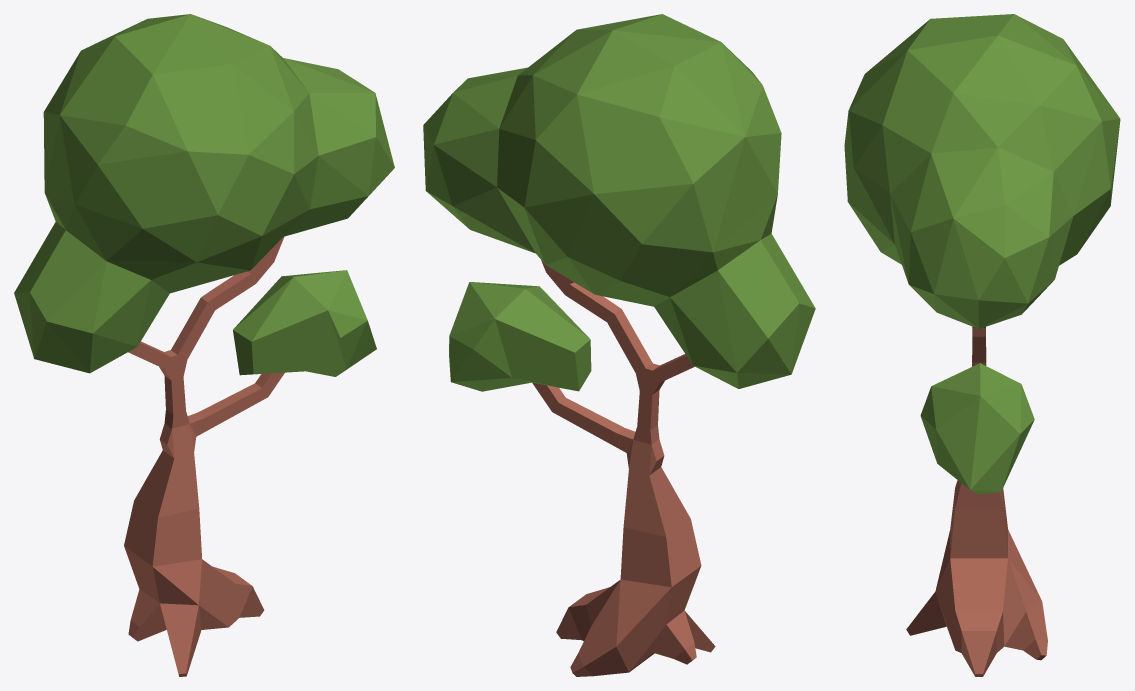
File: tree_14.fbx
3 renders of one model, left to right at view 1: azimuth 30°, elevation 25°; view 2: azimuth 150°, elevation 25°; view 3: azimuth 270°, elevation 25°, orthographic. The views are drawn at different scales.
Visible parts, largest first — view 1: Plane.024; view 2: Plane.024; view 3: Plane.024.
Boxes of the visible parts, bbox=[...] form: Plane.024: bbox=[14, 14, 394, 676]; Plane.024: bbox=[423, 14, 815, 676]; Plane.024: bbox=[844, 14, 1120, 676].
Bounding box in the file's own units: 327 × 543 × 217.
